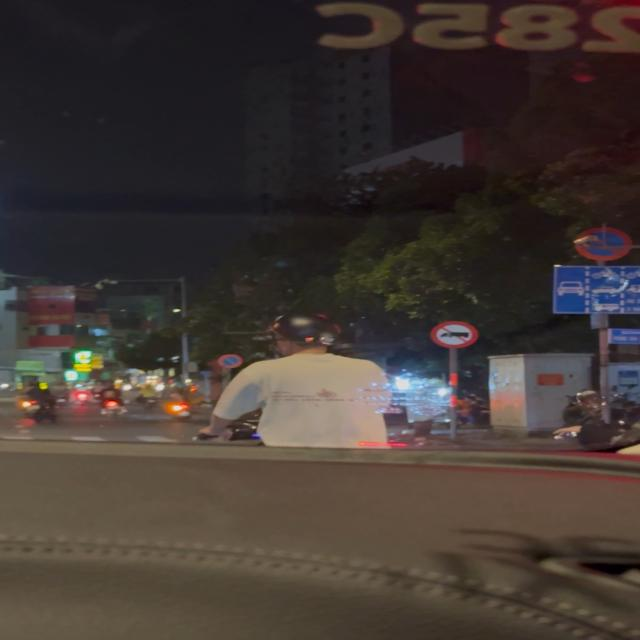Bien bao cam xe so-mi ro-mooc: (426, 320, 484, 349)
